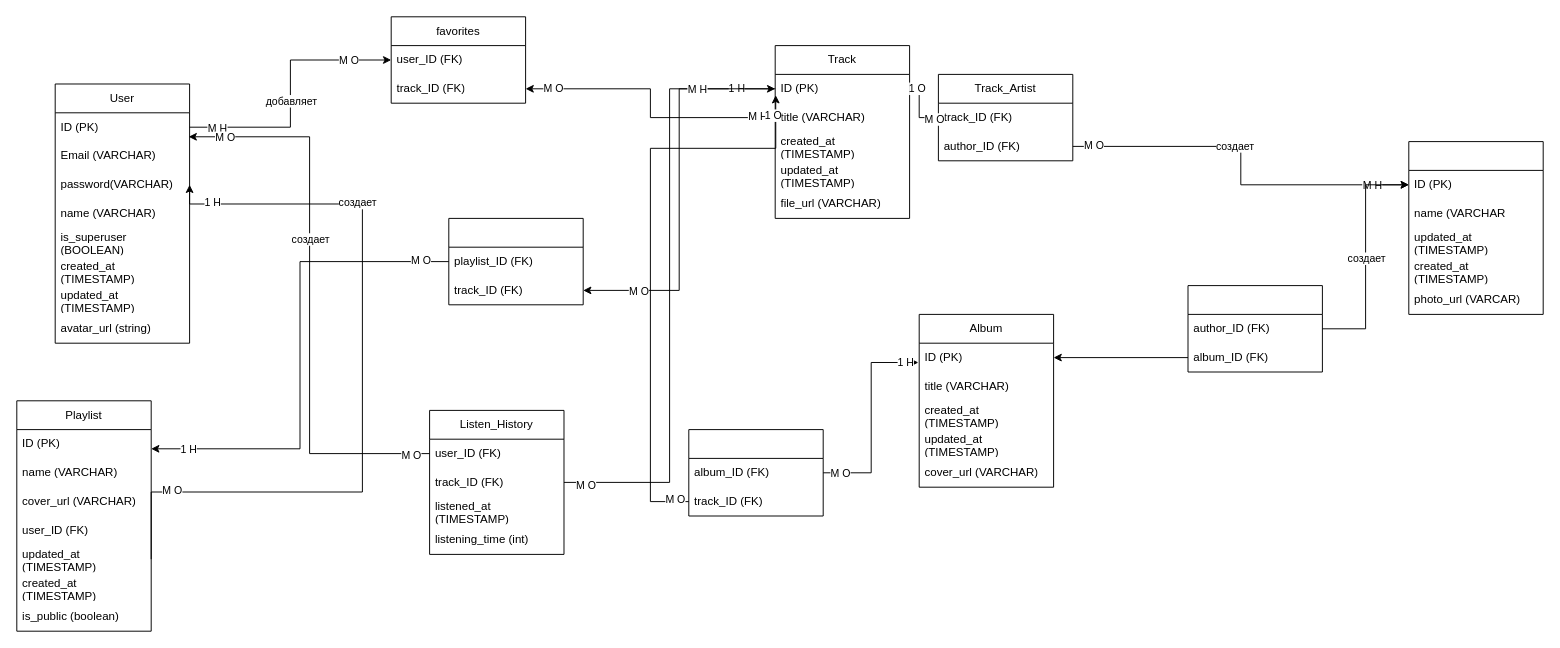
Some shapes in this 1560 by 648 pixel diagram are drawn without their labels. Each missing label, with the box of its shape:
album_author: (1187, 285, 1322, 372)
album_track: (688, 429, 823, 516)
Author: (1408, 141, 1543, 314)
playlist_track: (448, 217, 583, 305)
